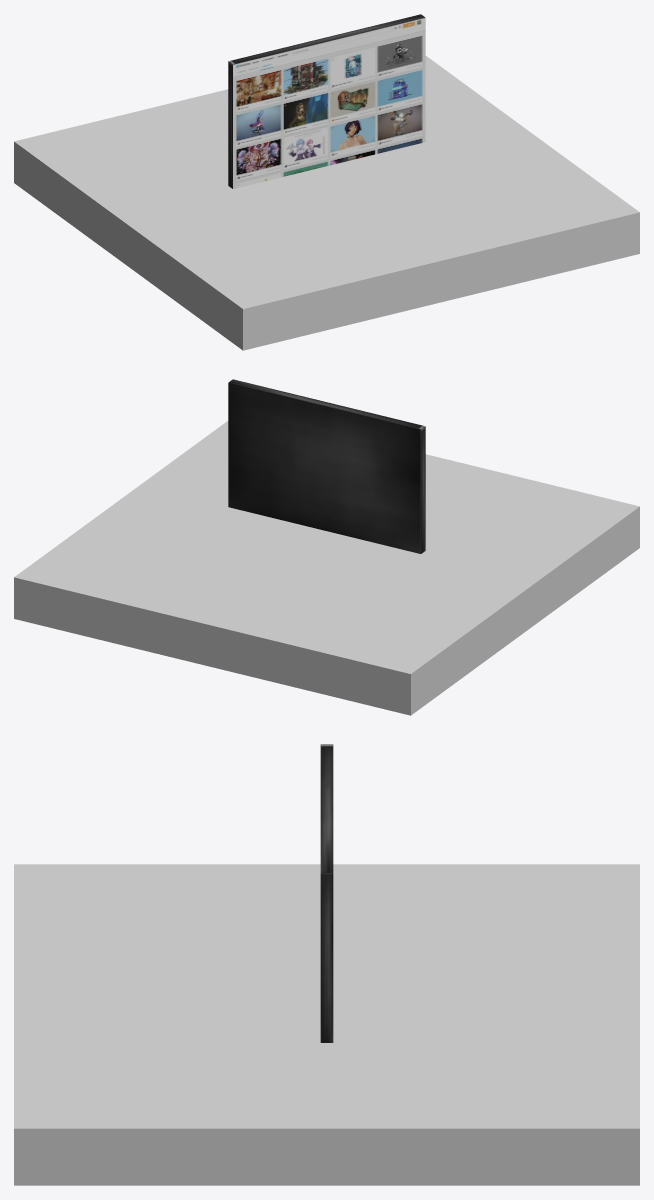
Rendered from sketchFab-transformed.glb.
The picture shows the model from 3 angles, top to bottom: view 1: azimuth 30°, elevation 25°; view 2: azimuth 150°, elevation 25°; view 3: azimuth 270°, elevation 25°; orthographic projection. The views are drawn at different scales.
Visible parts, largest first — view 1: Floor_2, Object_6; view 2: Floor_2, Object_6; view 3: Floor_2, Object_6.
Part boxes in pixels (<box>): Floor_2: <box>14,56,639,350</box>; Object_6: <box>228,14,425,188</box>; Floor_2: <box>14,421,639,715</box>; Object_6: <box>228,379,425,553</box>; Floor_2: <box>14,864,639,1185</box>; Object_6: <box>320,744,333,1042</box>.
Bounding box in the file's own units: 10 × 4.31 × 10.
Materials: 2 (1 with a texture image).
